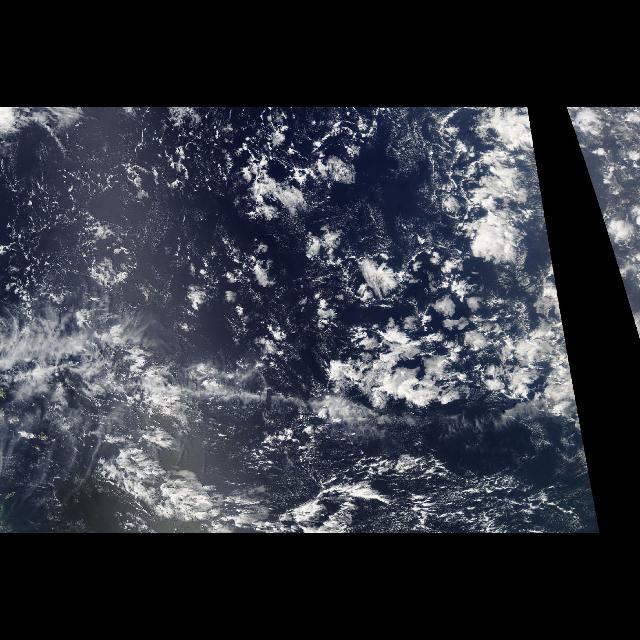Flower: (307, 235, 571, 419)
Gravel: (168, 146, 576, 520)
Sugar: (62, 140, 278, 368), (300, 112, 460, 218)
